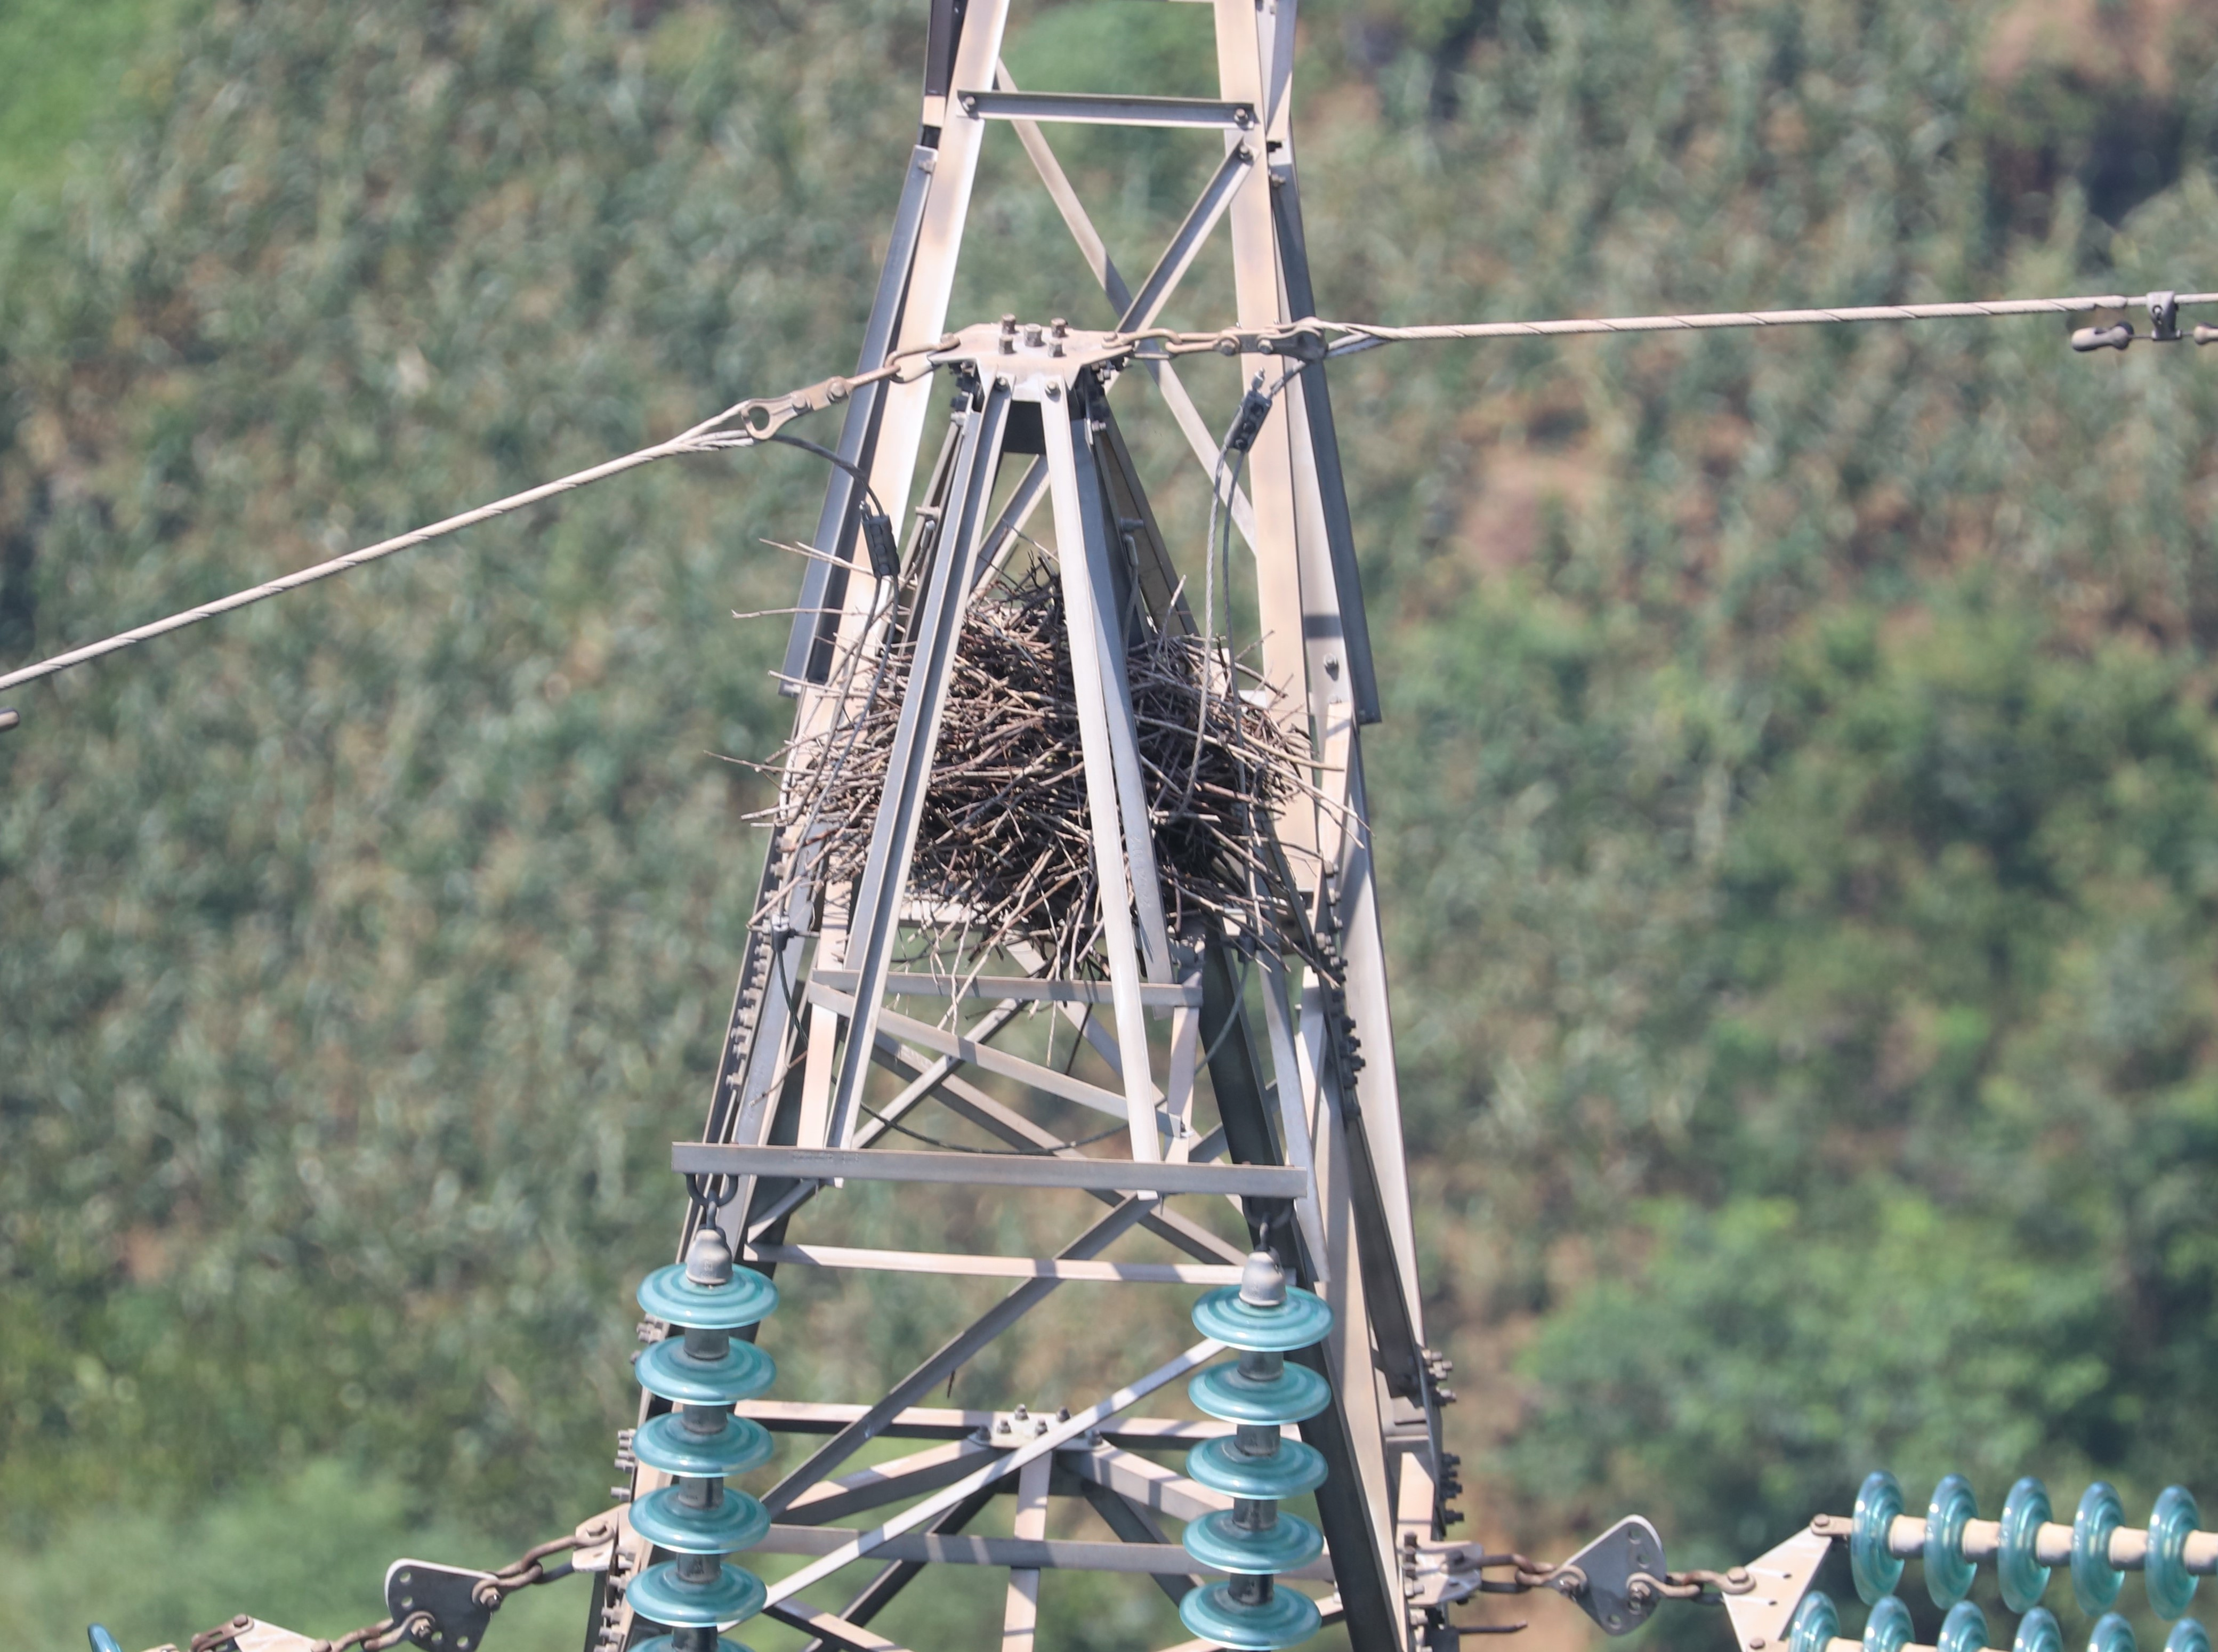niaowo: (781, 567, 1335, 998)
